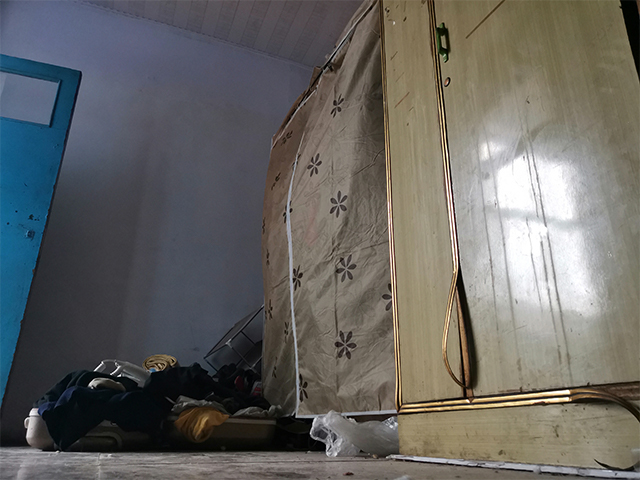cabinet: (373, 1, 639, 479)
